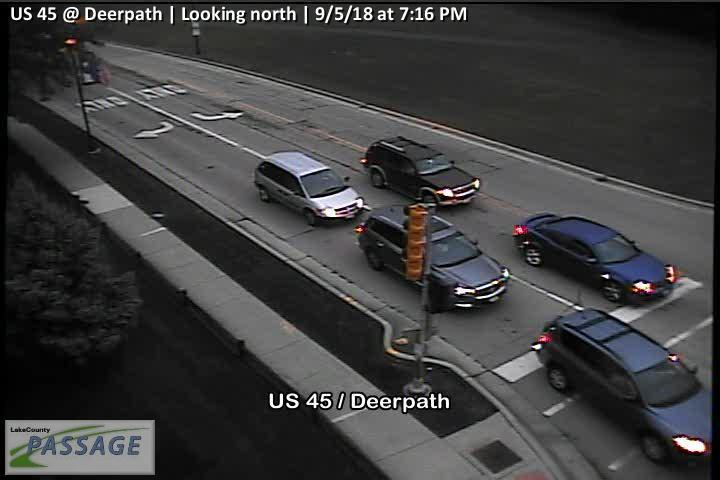SUV: (529, 307, 714, 467), (353, 204, 512, 317), (359, 134, 482, 214)
Sedan: (510, 209, 681, 306), (254, 150, 365, 229)
